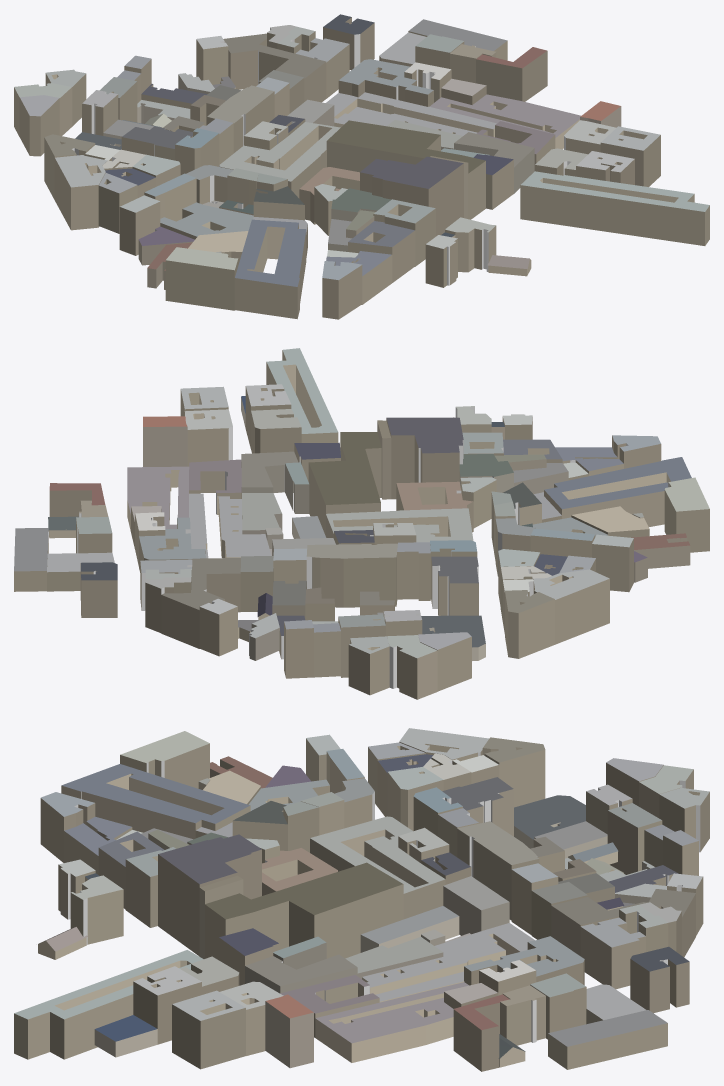
3 renders of one model, top to bottom at view 1: azimuth 30°, elevation 25°; view 2: azimuth 150°, elevation 25°; view 3: azimuth 270°, elevation 25°, orthographic. The views are drawn at different scales.
Parts seen in each view (by area): view 1: tuile; view 2: tuile; view 3: tuile.
Boxes of the visible parts, x1,y1,x2,y2 form: tuile: (14,14,709,319); tuile: (14,348,709,699); tuile: (14,728,709,1071).
Bounding box in the file's own units: 273 × 36.92 × 276.
